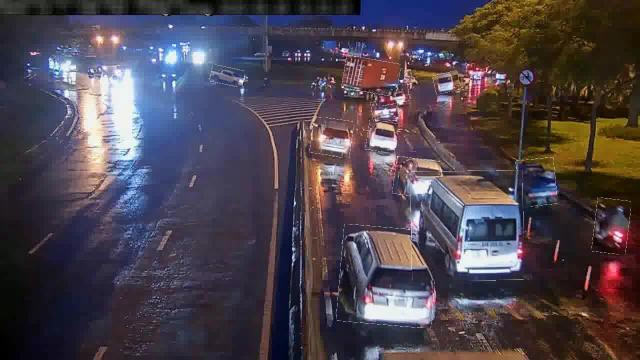Bike: (594, 198, 630, 254)
Bus: (412, 171, 524, 281), (374, 81, 410, 105), (434, 72, 461, 92)
Car: (338, 226, 438, 327), (394, 158, 441, 198), (518, 158, 556, 206), (311, 117, 353, 156), (367, 120, 398, 152), (211, 66, 245, 86), (372, 100, 398, 122)
Truck: (344, 57, 401, 95)
